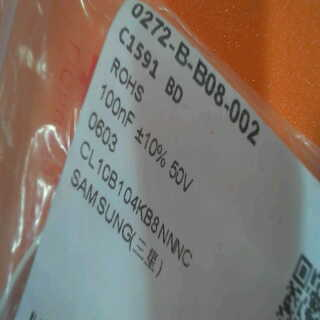100nF: (87, 83, 138, 129)
